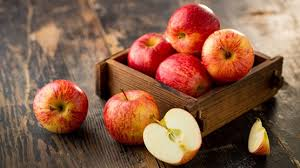apple: (101, 89, 160, 148), (33, 80, 89, 134), (202, 29, 257, 81), (166, 3, 221, 54), (159, 52, 213, 97), (124, 31, 176, 77)
damaged_apple: (142, 108, 207, 165), (246, 116, 272, 153)
